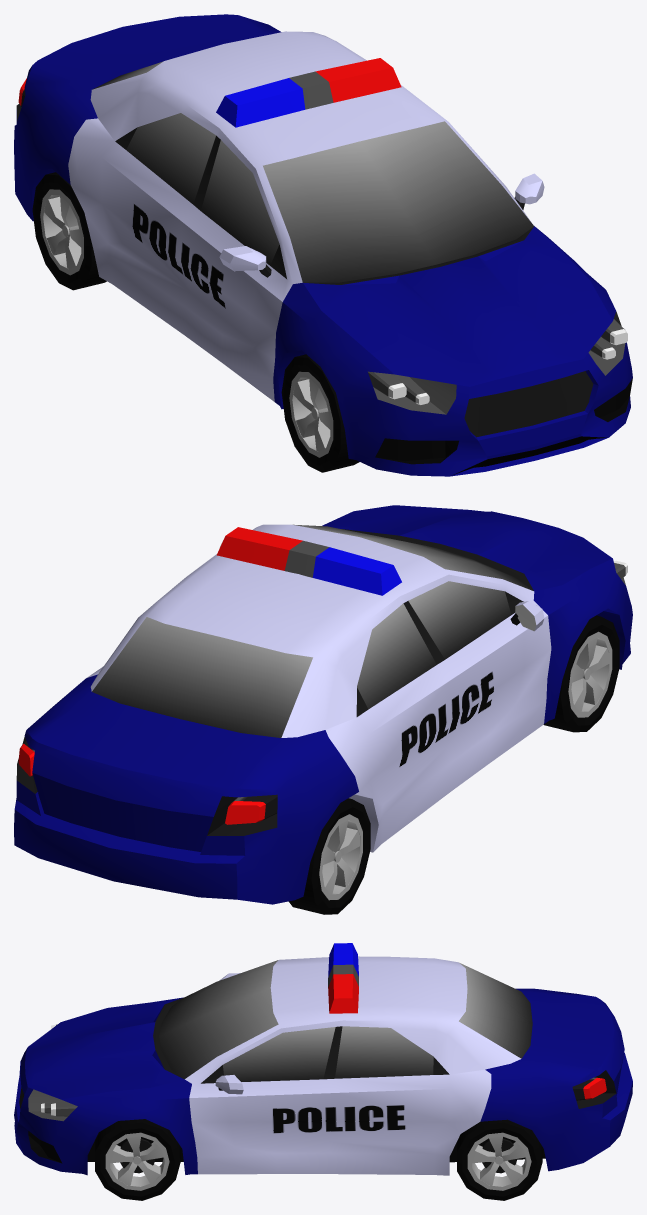
The model's file is police 1.fbx.
The picture shows the model from 3 angles, top to bottom: view 1: azimuth 30°, elevation 25°; view 2: azimuth 150°, elevation 25°; view 3: azimuth 270°, elevation 25°; orthographic projection. The views are drawn at different scales.
Parts seen in each view (by area): view 1: Plane, Cylinder.002, Cylinder.003; view 2: Plane, Cylinder.003, Cylinder.002; view 3: Plane, Cylinder, Cylinder.001.
Boxes of the visible parts, bbox=[...] form: Plane: bbox=[14, 14, 632, 476]; Cylinder.002: bbox=[281, 354, 359, 472]; Cylinder.003: bbox=[32, 172, 106, 290]; Plane: bbox=[14, 505, 632, 904]; Cylinder.003: bbox=[288, 798, 370, 914]; Cylinder.002: bbox=[543, 615, 619, 732]; Plane: bbox=[14, 943, 632, 1175]; Cylinder: bbox=[95, 1119, 180, 1200]; Cylinder.001: bbox=[457, 1119, 542, 1200].
Size of the model in its own units: 94.53 by 71.42 by 220.
Materials: 1 (1 with a texture image).
